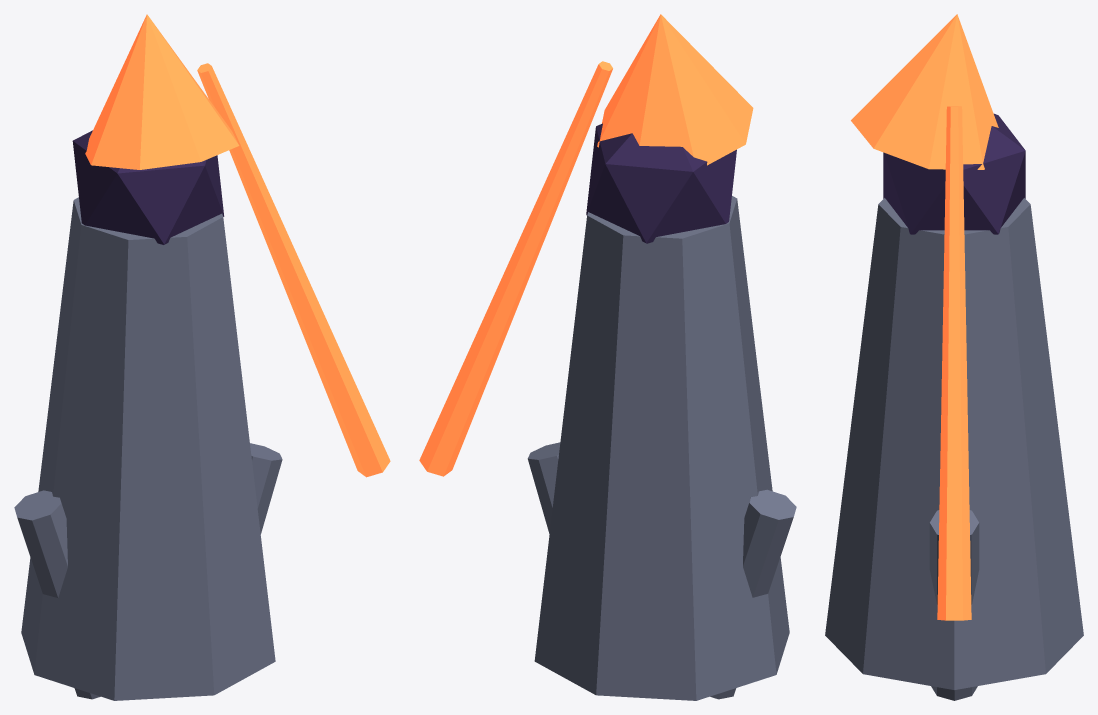
File: scout.glb
3 views of the same model, side by side, from view 1: azimuth 30°, elevation 25°; view 2: azimuth 150°, elevation 25°; view 3: azimuth 270°, elevation 25° (orthographic). The views are drawn at different scales.
Parts seen in each view (by area): view 1: scout-body, scout-crest, scout-spear, scout-head, scout-leg-0, scout-leg-1; view 2: scout-body, scout-crest, scout-head, scout-spear, scout-leg-0, scout-leg-1; view 3: scout-body, scout-spear, scout-crest, scout-head, scout-leg-1.
Boxes of the visible parts, x1,y1,x2,y2 form: scout-body: (21,197,275,700); scout-crest: (85,14,239,169); scout-spear: (197,63,390,477); scout-head: (72,130,224,244); scout-leg-0: (14,490,100,699); scout-leg-1: (250,443,282,534); scout-body: (534,196,789,700); scout-crest: (597,14,753,165); scout-head: (586,123,736,243); scout-spear: (419,61,612,476); scout-leg-0: (710,489,796,699); scout-leg-1: (527,442,560,533); scout-body: (825,198,1083,689); scout-spear: (937,106,971,620); scout-crest: (851,14,998,169); scout-head: (883,113,1025,234); scout-leg-1: (929,510,979,700).
Bounding box in the file's own units: 1.1 × 1.89 × 0.68.
